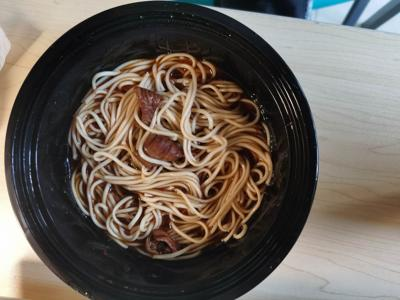nrm: (32, 37, 304, 275)
